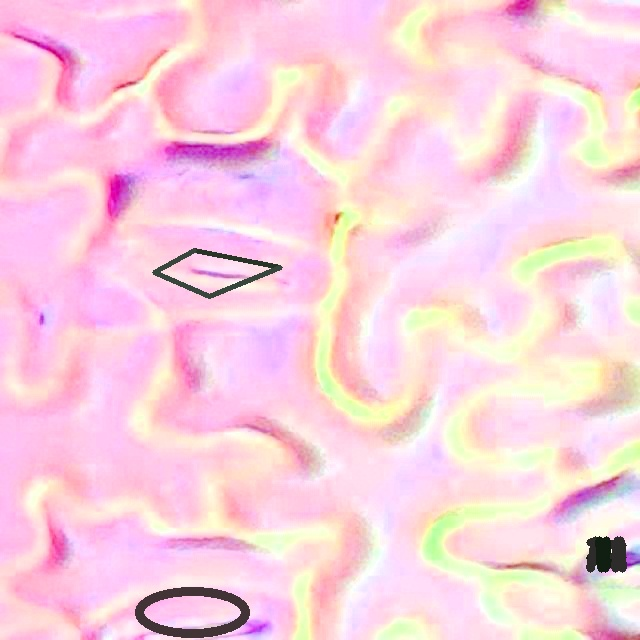close: (153, 248, 281, 297)
open: (134, 587, 250, 637), (586, 536, 626, 572)
